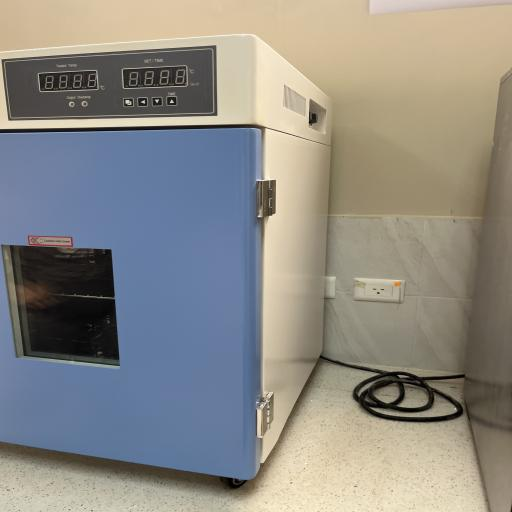Horno_Secado_Biobase: (0, 26, 353, 501)
